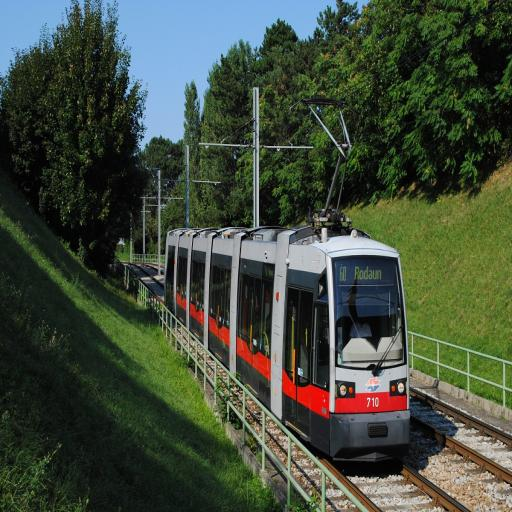ULF: (164, 222, 413, 460)
